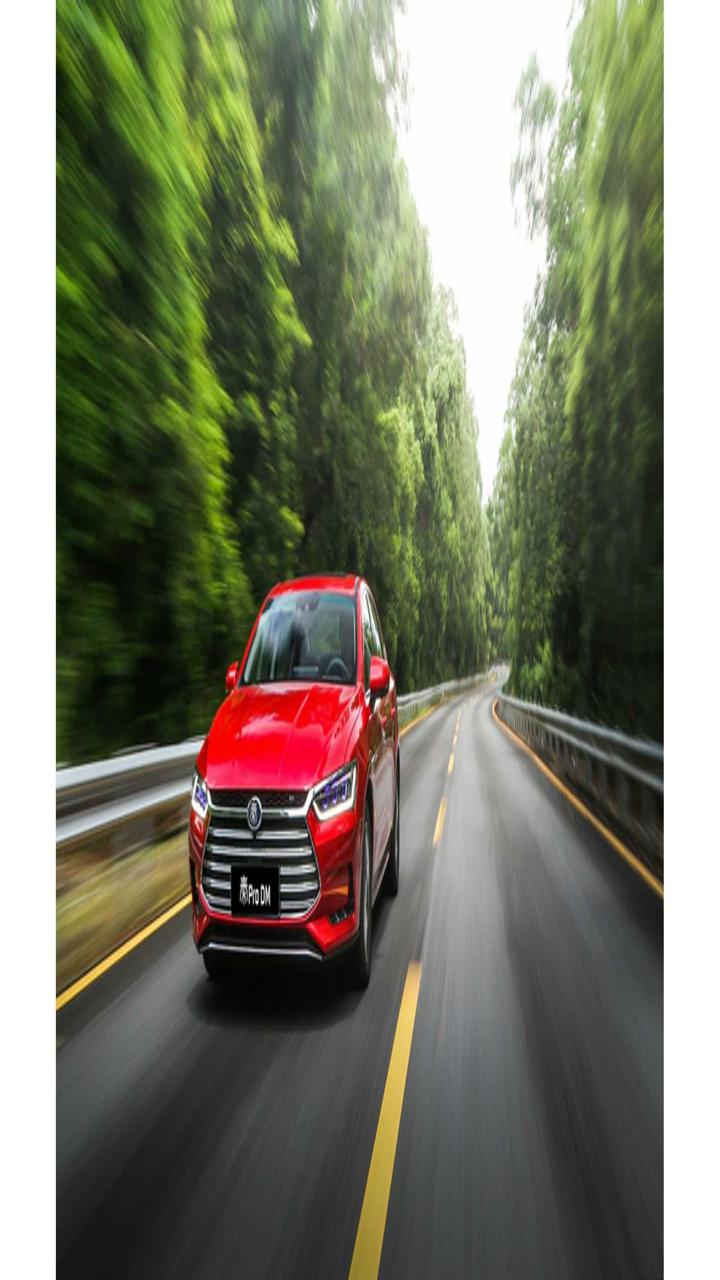vehicle: (167, 540, 422, 1003)
